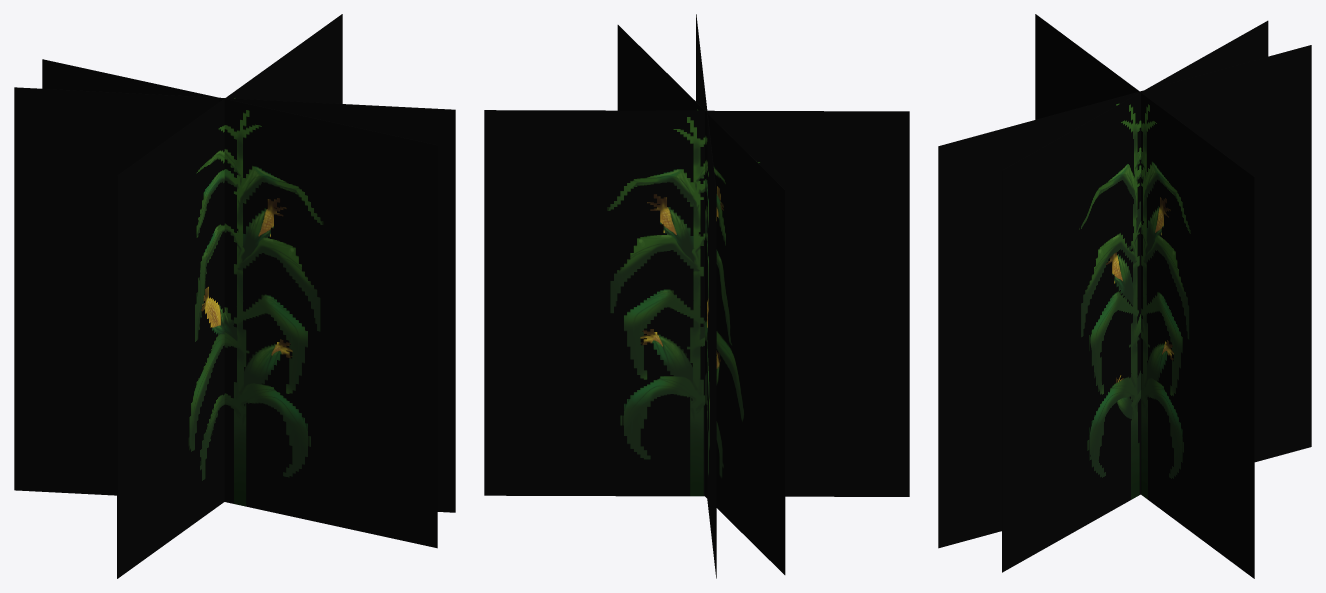
Rendered from corn.fbx.
3 views of the same model, side by side, from view 1: azimuth 30°, elevation 25°; view 2: azimuth 150°, elevation 25°; view 3: azimuth 270°, elevation 25° (orthographic). The views are drawn at different scales.
Visible parts, largest first — view 1: corn.001; view 2: corn.001; view 3: corn.001.
Boxes of the visible parts, box(x1,y1,x2,y2) form: corn.001: box(14, 14, 455, 578); corn.001: box(484, 14, 909, 578); corn.001: box(938, 14, 1311, 578).
Size of the model in its own units: 177 by 204 by 172.
2 materials, 2 textured.
